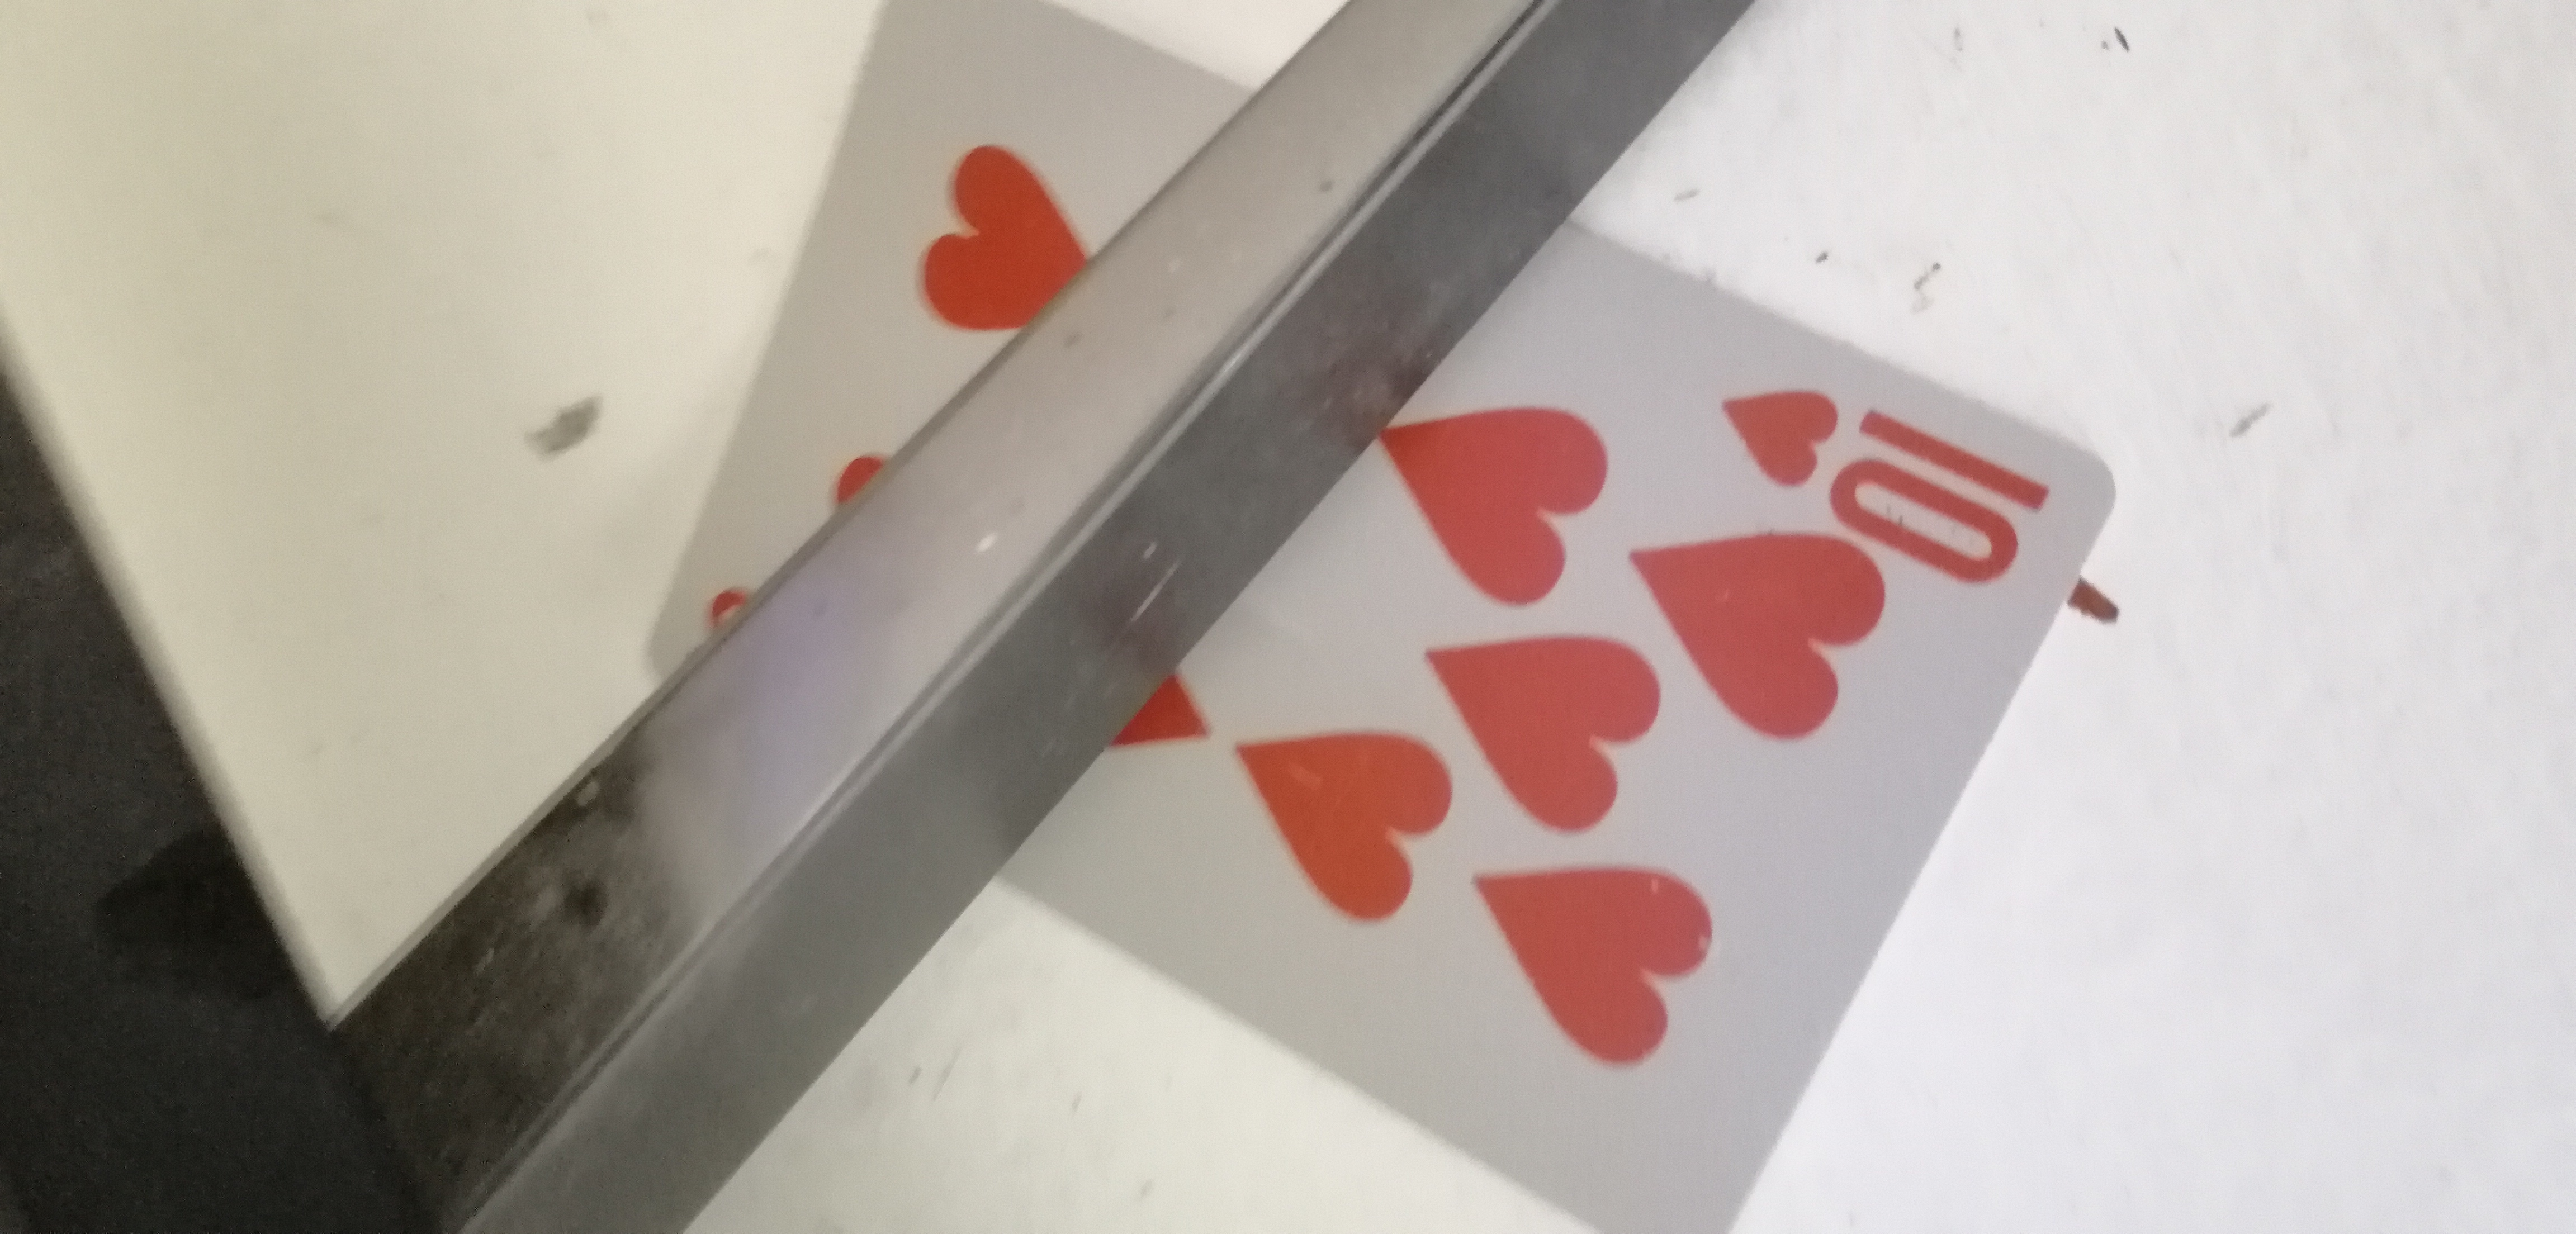ten: (1122, 102, 2129, 1214)
